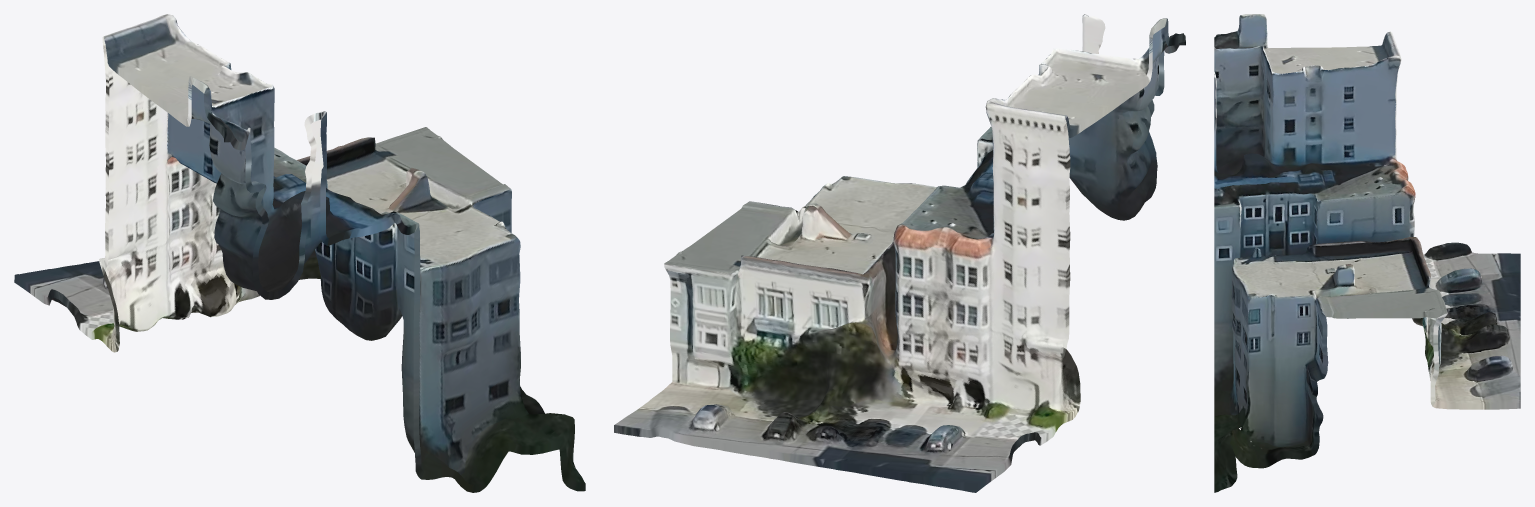
The model's file is z20-167720-405197-h0-yup-uvflip-v3-world.glb.
3 renders of one model, left to right at view 1: azimuth 30°, elevation 25°; view 2: azimuth 150°, elevation 25°; view 3: azimuth 270°, elevation 25°, orthographic. The views are drawn at different scales.
Size of the model in its own units: 30.2 by 38.2 by 30.32.
1 material, 1 textured.
